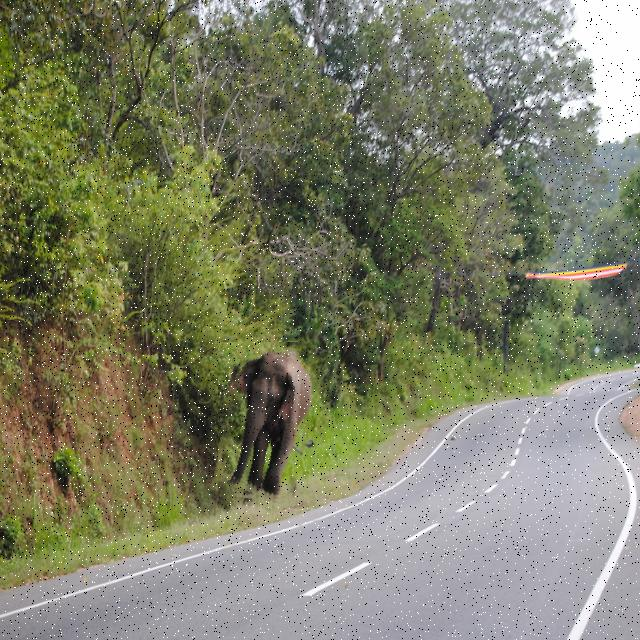elephant: (218, 342, 318, 505)
